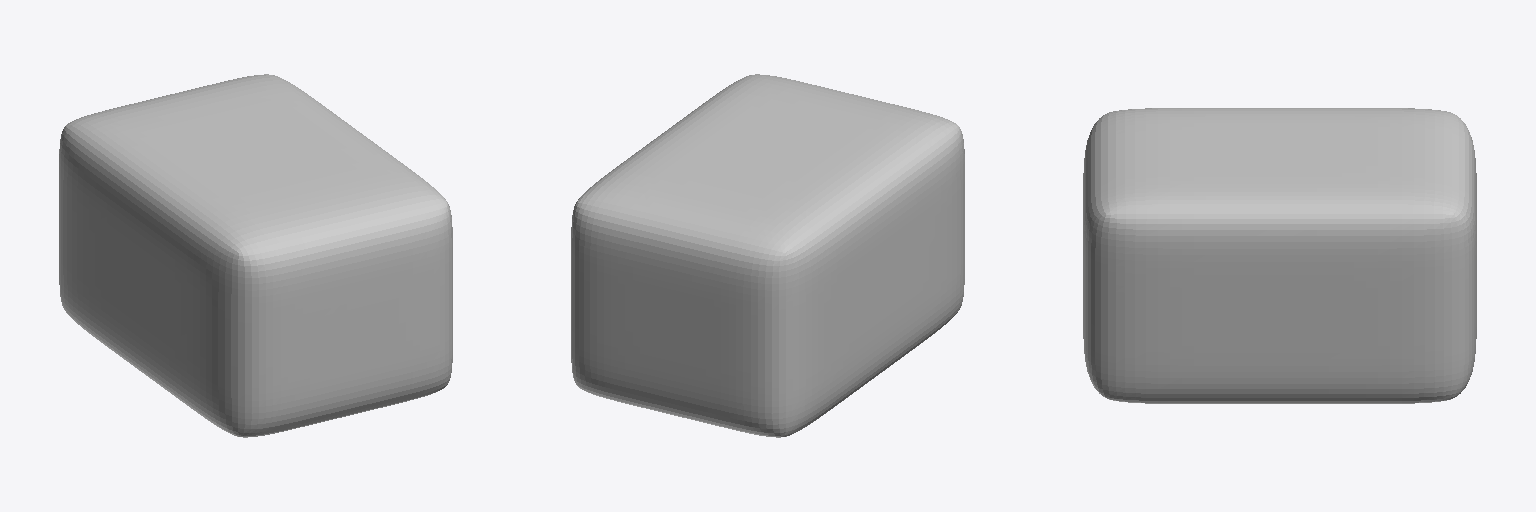
File: tile.obj
3 renders of one model, left to right at view 1: azimuth 30°, elevation 25°; view 2: azimuth 150°, elevation 25°; view 3: azimuth 270°, elevation 25°, orthographic.
Parts seen in each view (by area): view 1: Cube; view 2: Cube; view 3: Cube.
Part boxes in pixels (x1,y1,x2,y2): Cube: (59, 74, 452, 437); Cube: (571, 74, 964, 437); Cube: (1083, 108, 1476, 403).
Bounding box in the file's own units: 0.3426 × 0.2889 × 0.4949.